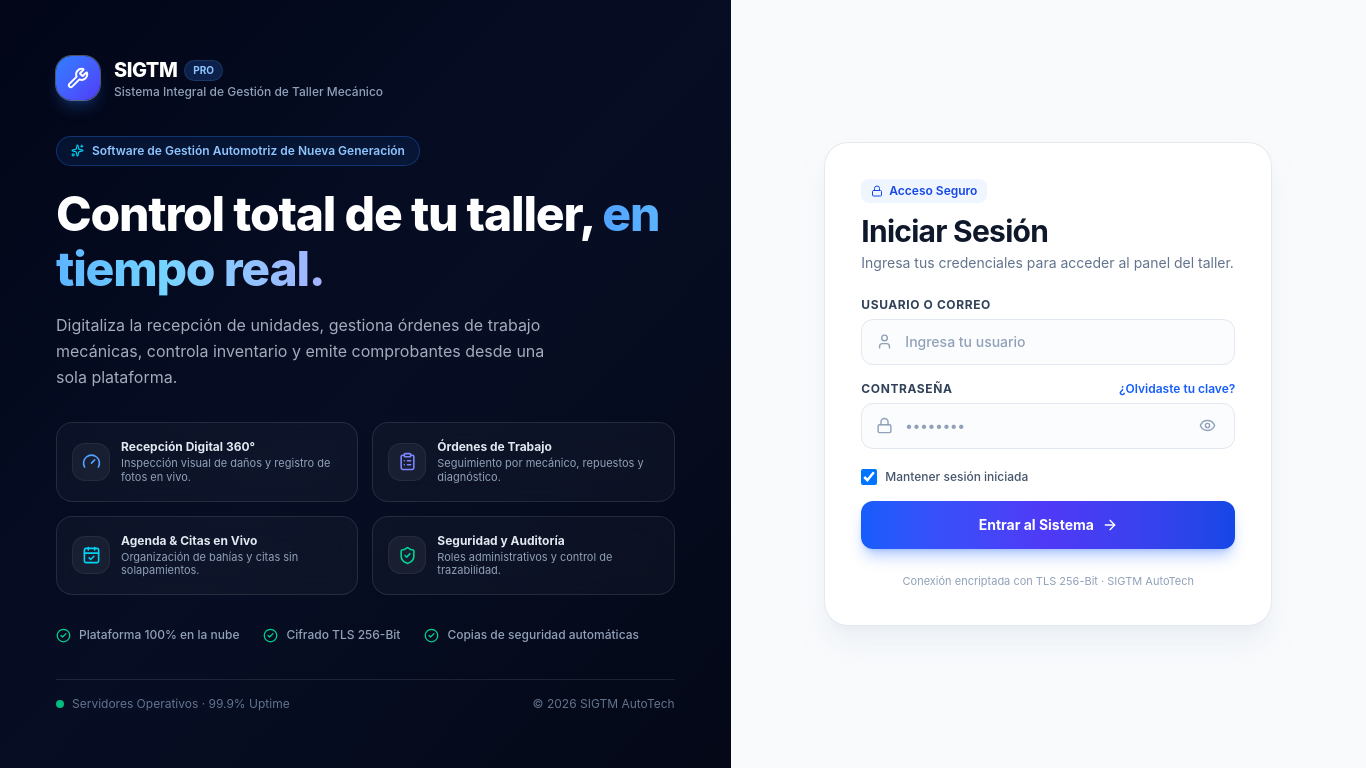
Login › muestra un error cuando las credenciales son incorrectas (401)
Type "admin" into the field labelled "Usuario o Correo".
click(1064, 342); type("admin")  # box [893,320,1234,364]
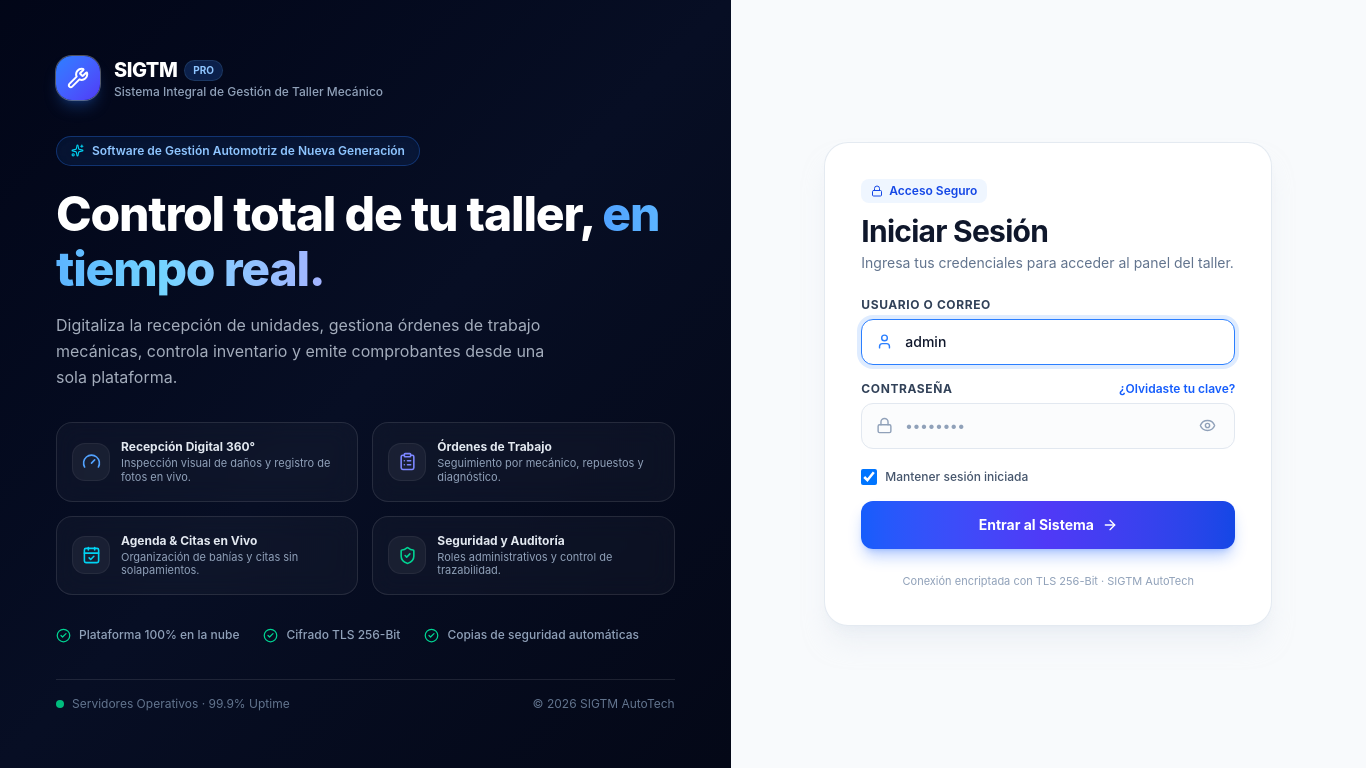
Type "incorrecta" into the password field labelled "Contraseña".
click(1043, 426); type("incorrecta")  # box [893,404,1193,448]
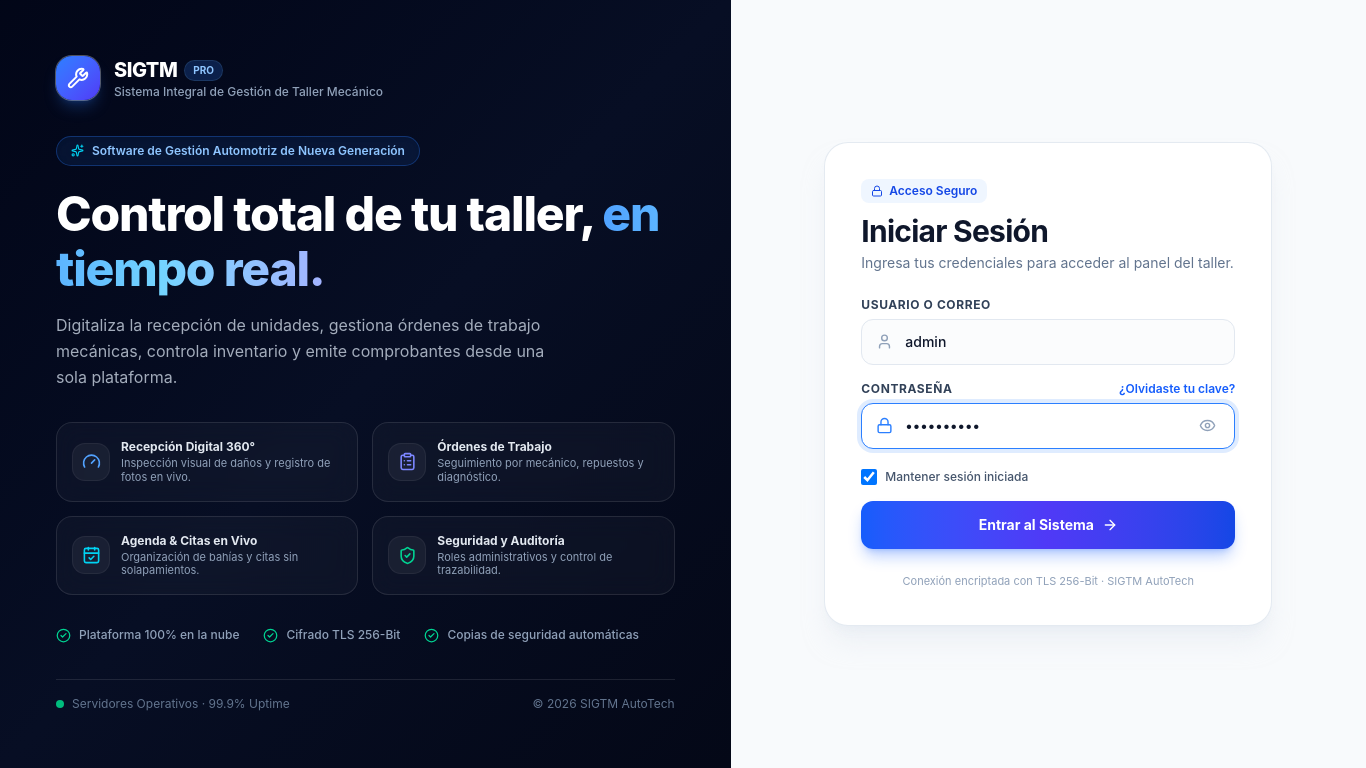
Click the button "Entrar al Sistema".
click(1048, 525)  # box [861,501,1235,549]
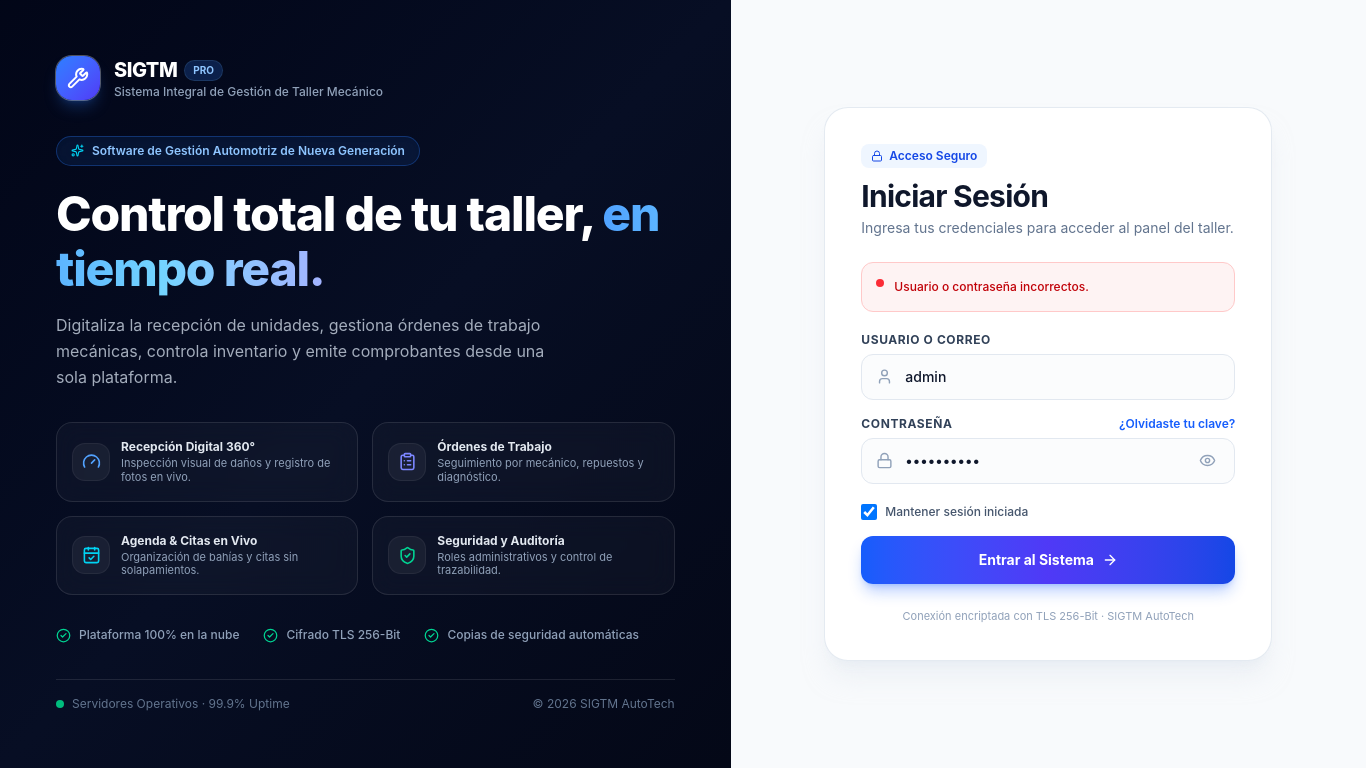
Now the text "Usuario o contraseña incorrectos." is shown, box [894,279,1089,294]
